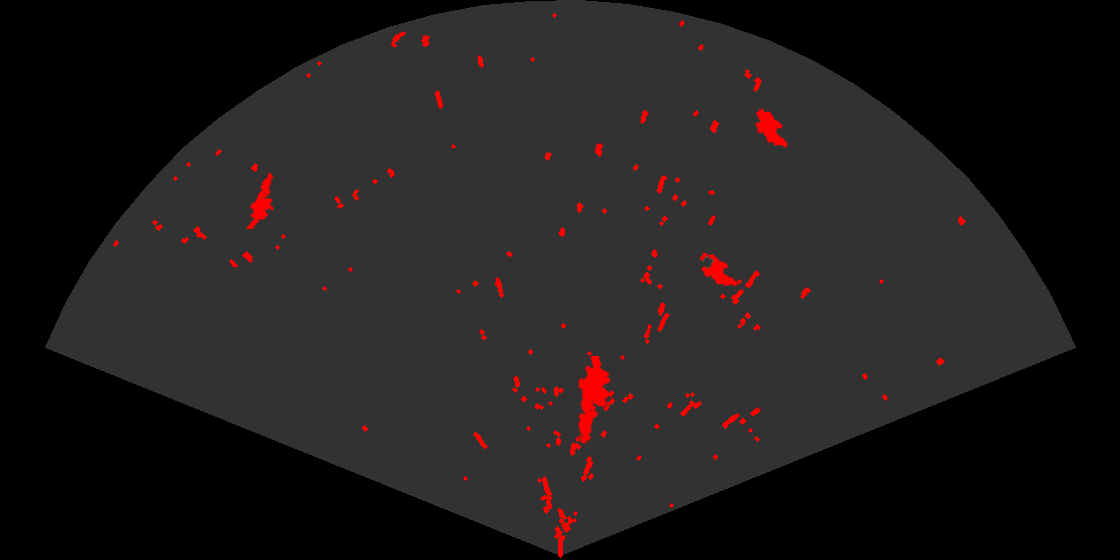AUV: (698, 251, 739, 288), (754, 107, 789, 149)
frogman: (576, 356, 616, 446), (244, 171, 275, 229)
